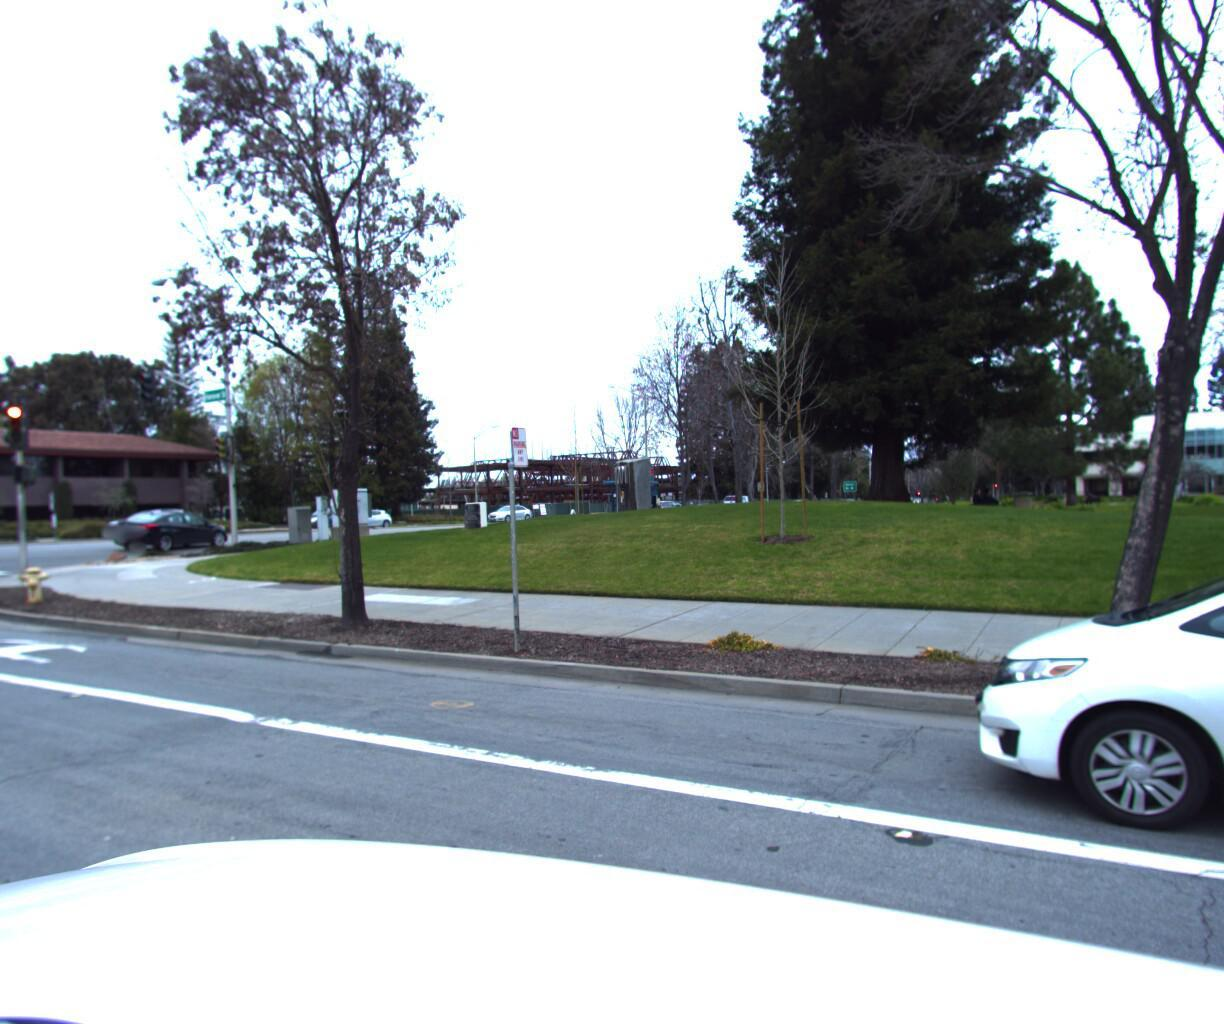car: (959, 501, 1224, 1024), (109, 508, 239, 553), (100, 507, 198, 540), (339, 507, 402, 530), (485, 503, 536, 522), (723, 497, 758, 514)
